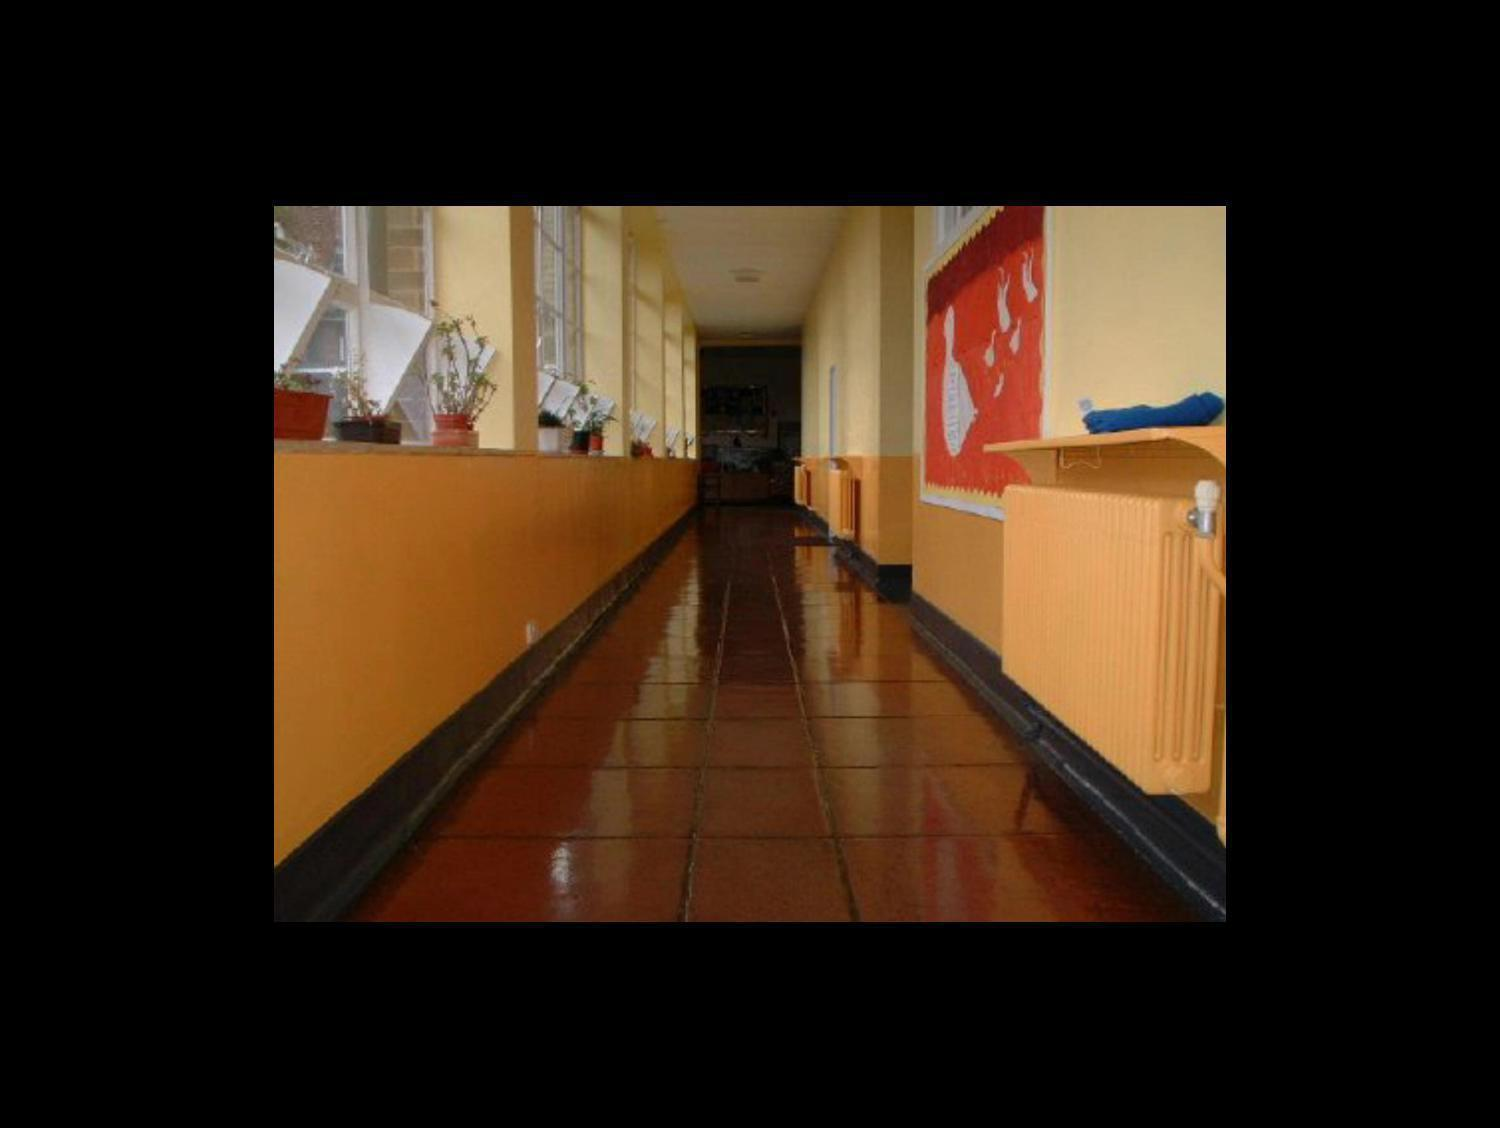Otro Obstaculo: (987, 424, 1206, 793), (823, 456, 858, 547)
